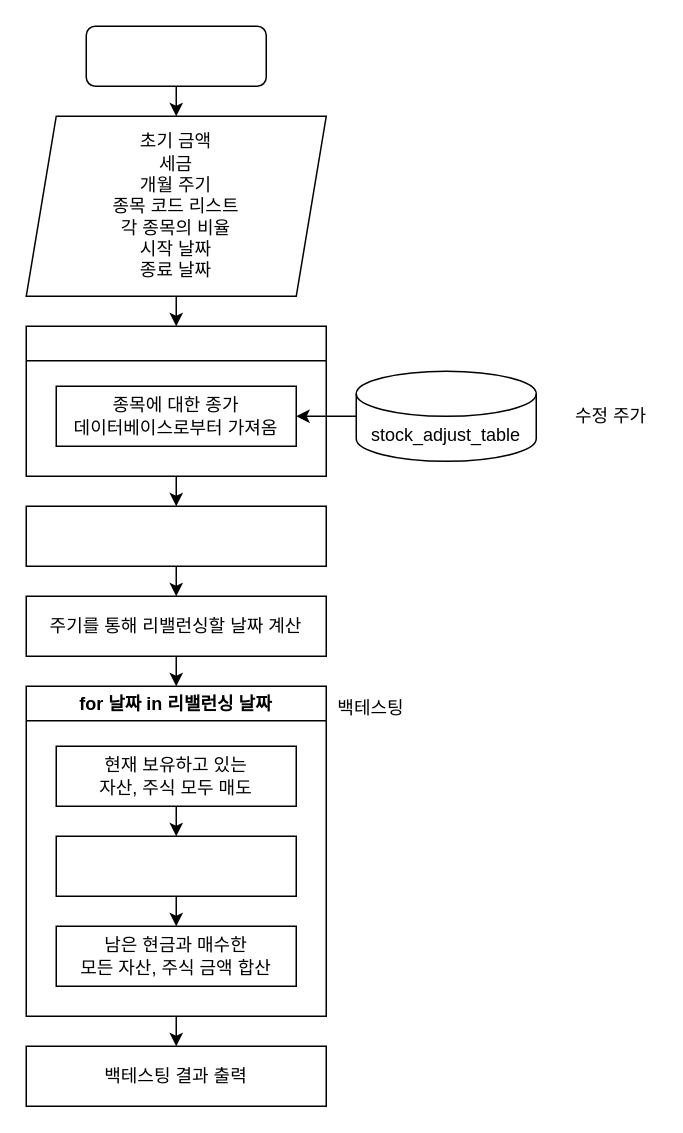
Some shapes in this 683 by 1133 pixel diagram are drawn without their labels. Here are the shapes that lost their labels. From the top down, the box of each, then its label:
(85, 25, 266, 86): Start
(25, 325, 326, 476): for 종목 코드 in 종목 코드 리스트
(25, 505, 326, 566): 하나의 데이터프레임으로 합침
(55, 835, 296, 896): 각 종목의 비율에 따라 자산, 주식 모두 매수
